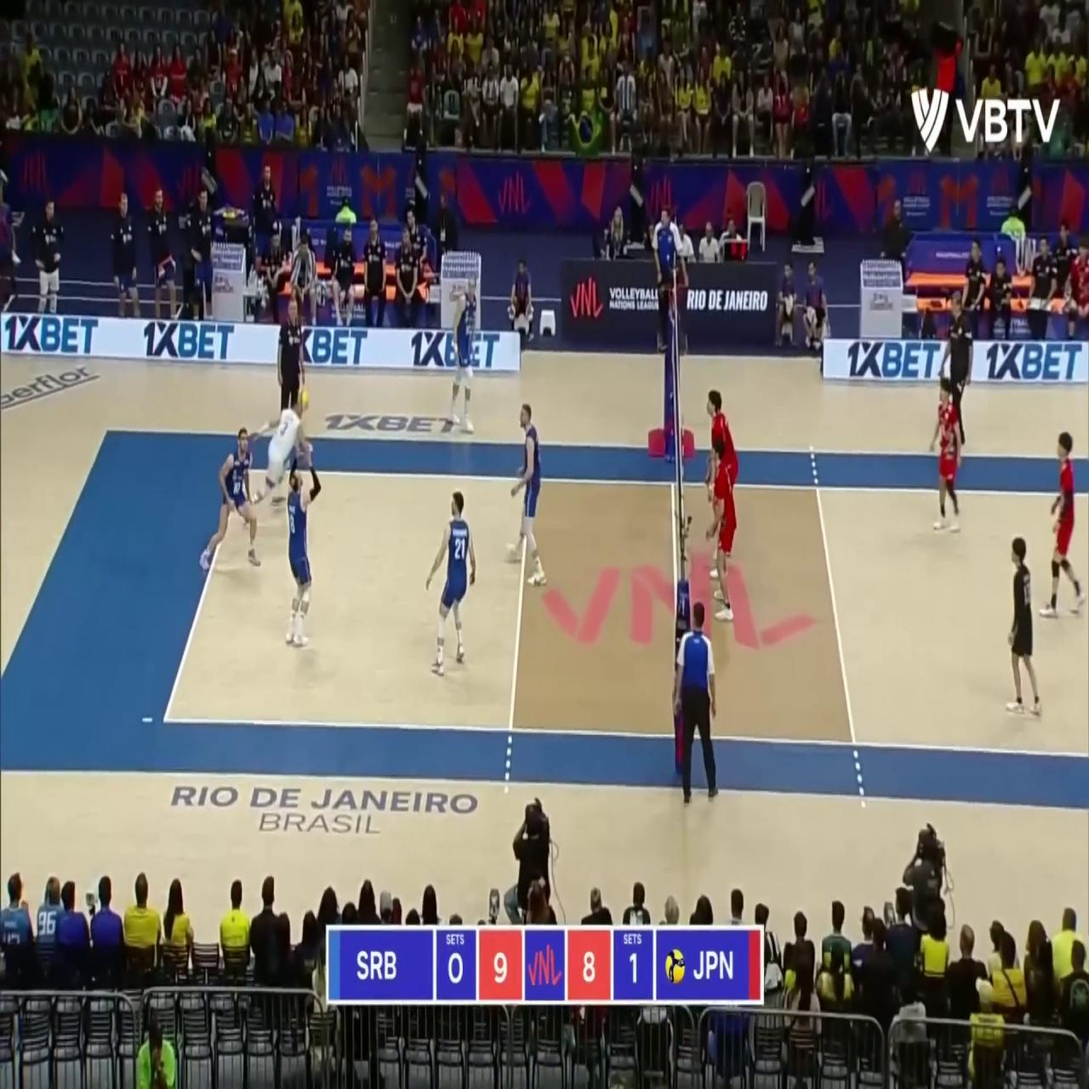ball: (298, 387, 309, 412)
